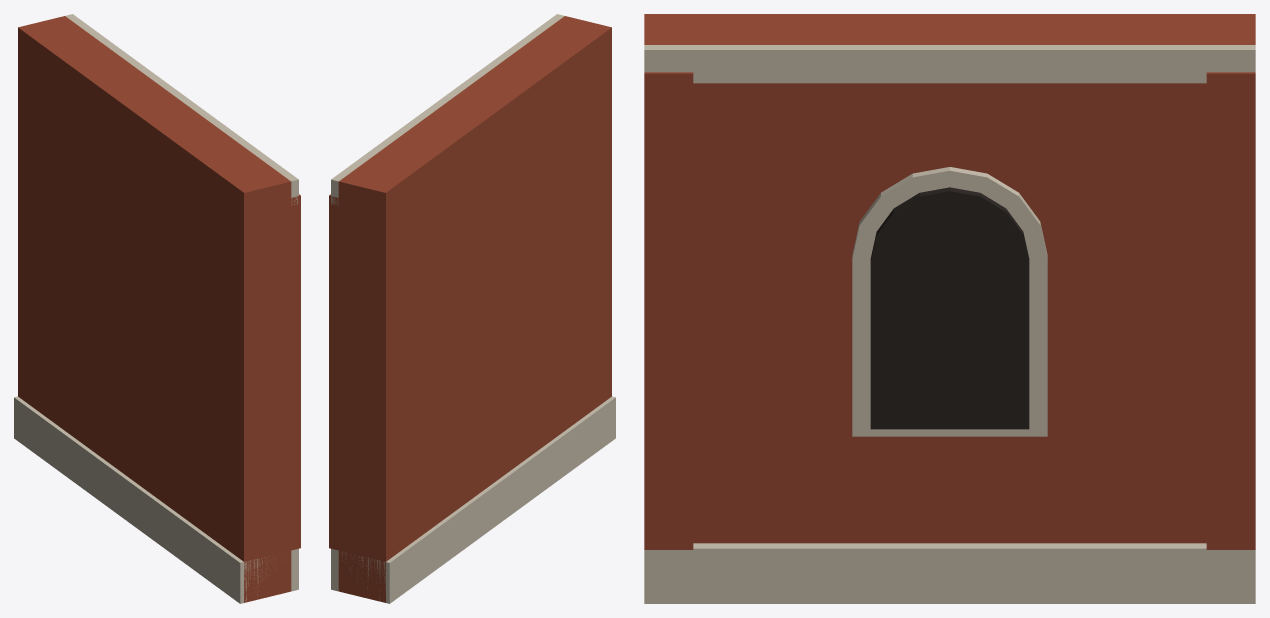
File: wall-brick.glb
3 views of the same model, side by side, from view 1: azimuth 30°, elevation 25°; view 2: azimuth 150°, elevation 25°; view 3: azimuth 270°, elevation 25° (orthographic). The views are drawn at different scales.
Visible parts, largest first — view 1: wall-brick; view 2: wall-brick; view 3: wall-brick.
Boxes of the visible parts, x1=… form: wall-brick: x1=14, y1=14, x2=300, y2=603; wall-brick: x1=329, y1=14, x2=615, y2=603; wall-brick: x1=644, y1=14, x2=1255, y2=603.
Size of the model in its own units: 0.16 by 1 by 1.
